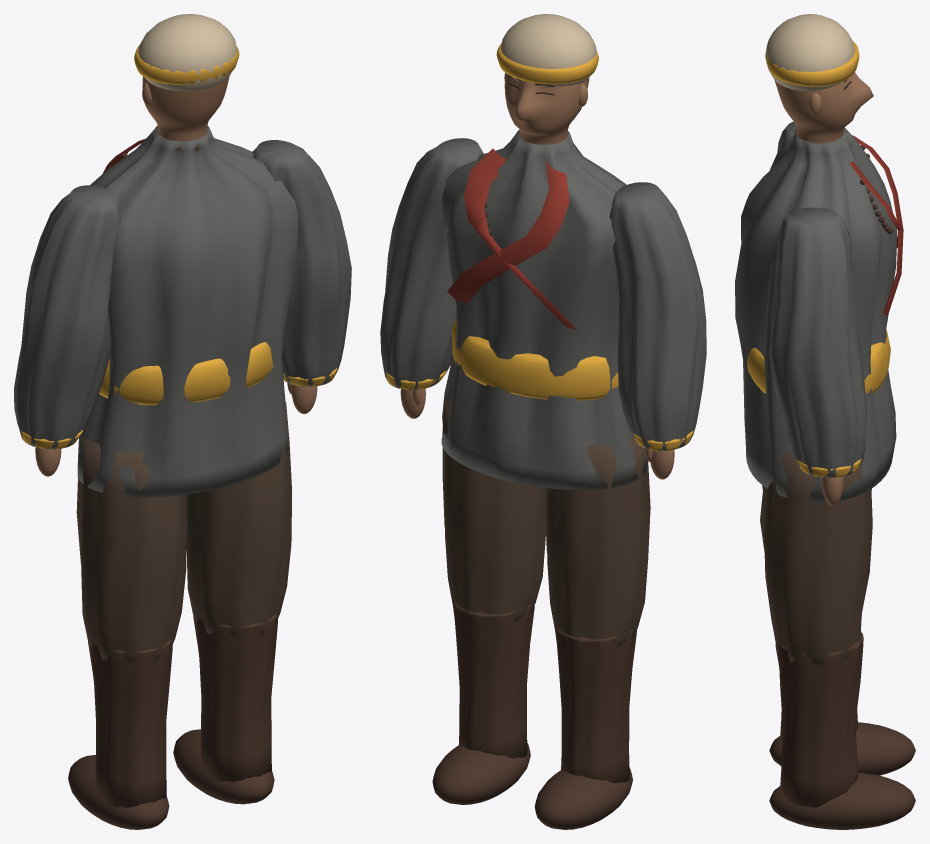
Rendered from Guardian.fbx.
3 renders of one model, left to right at view 1: azimuth 30°, elevation 25°; view 2: azimuth 150°, elevation 25°; view 3: azimuth 270°, elevation 25°, orthographic. The views are drawn at different scales.
Visible parts, largest first — view 1: Guardian; view 2: Guardian; view 3: Guardian.
Part boxes in pixels (bbox=[...]): Guardian: bbox=[14, 14, 351, 829]; Guardian: bbox=[380, 14, 706, 829]; Guardian: bbox=[735, 14, 915, 829].
Size of the model in its own units: 72.41 by 36.51 by 174.
